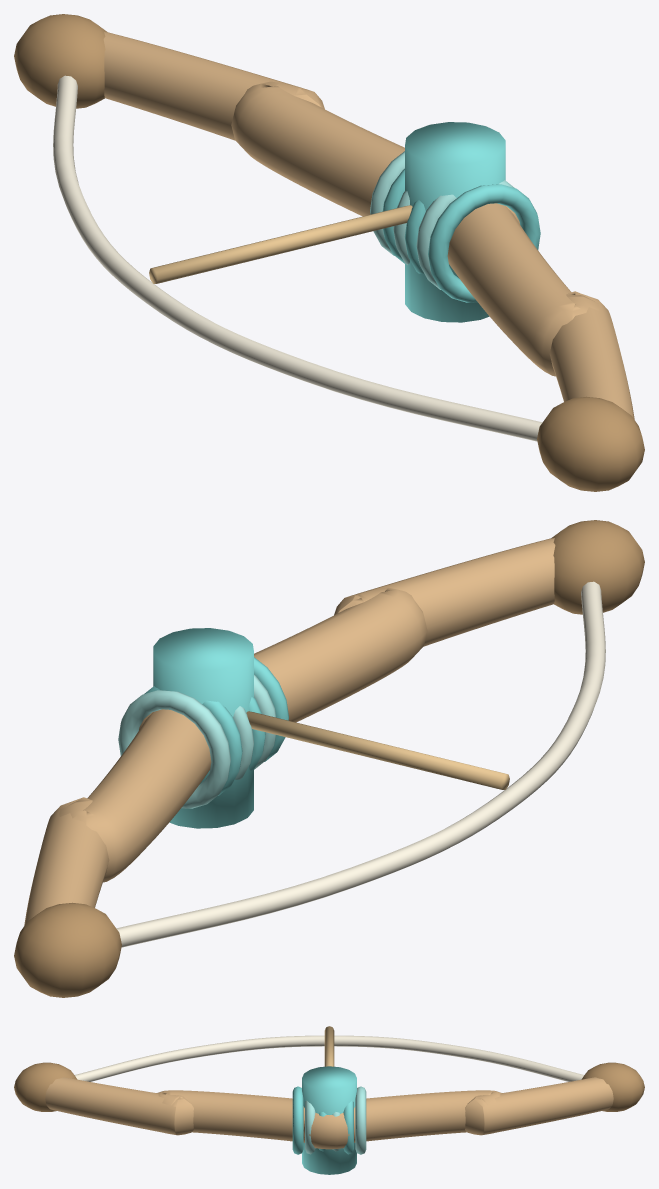
Rendered from bow-blender.glb.
The picture shows the model from 3 angles, top to bottom: view 1: azimuth 30°, elevation 25°; view 2: azimuth 150°, elevation 25°; view 3: azimuth 270°, elevation 25°; orthographic projection. The views are drawn at different scales.
Parts seen in each view (by area): view 1: Limb, String, Grip, LimbTip_1, LimbTip_0, ArrowShaft, GripBand_0, GripBand_1, GripBand_5, GripBand_2, GripBand_4; view 2: Limb, String, Grip, LimbTip_0, LimbTip_1, ArrowShaft, GripBand_5, GripBand_4, GripBand_0, GripBand_3, GripBand_1; view 3: Limb, String, Grip, LimbTip_0, LimbTip_1, GripBand_0, GripBand_5, ArrowShaft, GripBand_1, GripBand_4.
Part boxes in pixels (x1,y1,x2,y2): Limb: [103, 32, 634, 419]; String: [53, 75, 542, 441]; Grip: [405, 122, 505, 322]; LimbTip_1: [537, 396, 644, 491]; LimbTip_0: [14, 14, 107, 108]; ArrowShaft: [149, 205, 412, 283]; GripBand_0: [428, 184, 540, 302]; GripBand_1: [416, 180, 514, 289]; GripBand_5: [370, 151, 404, 255]; GripBand_2: [404, 200, 425, 273]; GripBand_4: [382, 168, 404, 263]; Limb: [24, 538, 555, 925]; String: [116, 581, 605, 947]; Grip: [153, 628, 253, 828]; LimbTip_0: [14, 902, 121, 997]; LimbTip_1: [551, 520, 644, 614]; ArrowShaft: [246, 711, 509, 789]; GripBand_5: [118, 690, 230, 808]; GripBand_4: [144, 686, 242, 795]; GripBand_0: [254, 657, 288, 761]; GripBand_3: [233, 706, 254, 779]; GripBand_1: [254, 674, 276, 769]; Limb: [45, 1077, 613, 1149]; String: [74, 1035, 584, 1081]; Grip: [302, 1066, 356, 1174]; LimbTip_0: [581, 1062, 644, 1111]; LimbTip_1: [14, 1062, 77, 1111]; GripBand_0: [292, 1086, 303, 1154]; GripBand_5: [355, 1086, 366, 1154]; ArrowShaft: [324, 1026, 334, 1066]; GripBand_1: [305, 1100, 315, 1154]; GripBand_4: [343, 1100, 353, 1154].
Bounding box in the file's own units: 0.5916 × 0.24 × 1.61.
